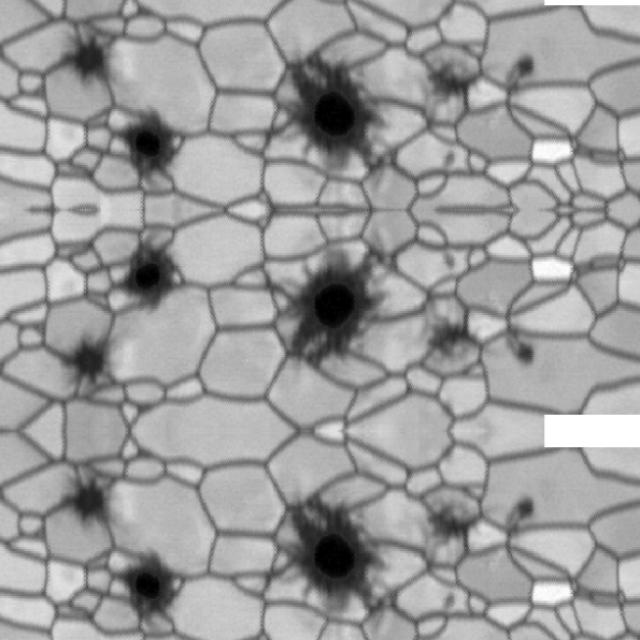good_void: (275, 247, 386, 363), (275, 55, 386, 171), (275, 498, 386, 614), (110, 240, 183, 312), (110, 106, 183, 178), (110, 549, 183, 621), (60, 332, 118, 396), (60, 22, 118, 86), (60, 465, 118, 529), (426, 314, 468, 358), (426, 60, 468, 104), (426, 503, 468, 547), (432, 247, 460, 273), (432, 145, 460, 171), (432, 588, 460, 614), (508, 341, 536, 365), (508, 53, 536, 77), (508, 496, 536, 520)
